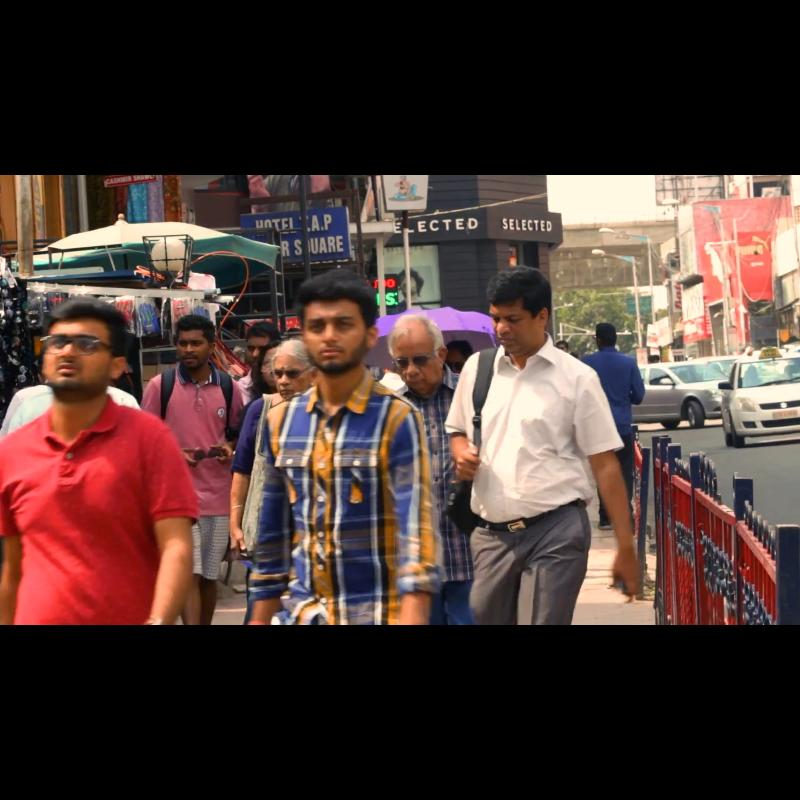Pant: (469, 500, 589, 624)
Shirt: (258, 404, 454, 602), (458, 347, 626, 517), (581, 349, 644, 437)
Tshirt: (1, 406, 192, 624), (135, 368, 243, 521)
